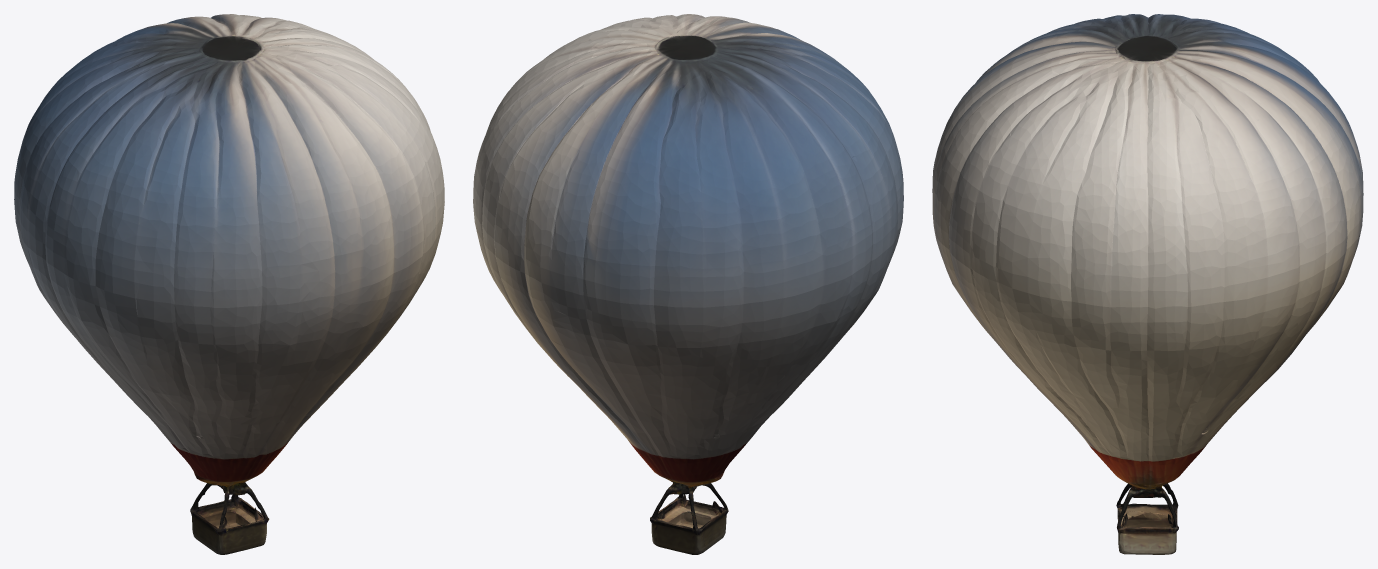
The picture shows the model from 3 angles, left to right: view 1: azimuth 30°, elevation 25°; view 2: azimuth 150°, elevation 25°; view 3: azimuth 270°, elevation 25°; orthographic projection.
Parts seen in each view (by area): view 1: world; view 2: world; view 3: world.
Part boxes in pixels (x1=…): world: x1=14, y1=14, x2=444, y2=554; world: x1=473, y1=14, x2=903, y2=554; world: x1=932, y1=14, x2=1363, y2=554.
Bounding box in the file's own units: 0.7887 × 1 × 0.788.
1 material, 1 textured.
